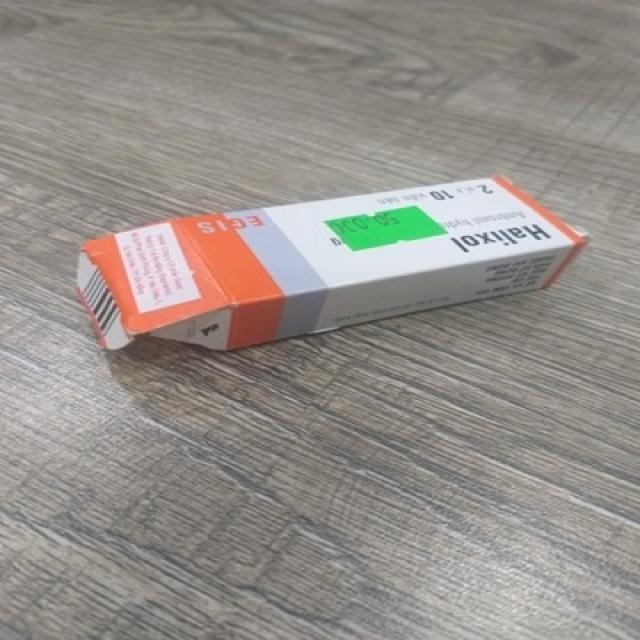PaperCardboard: (76, 175, 591, 352)
